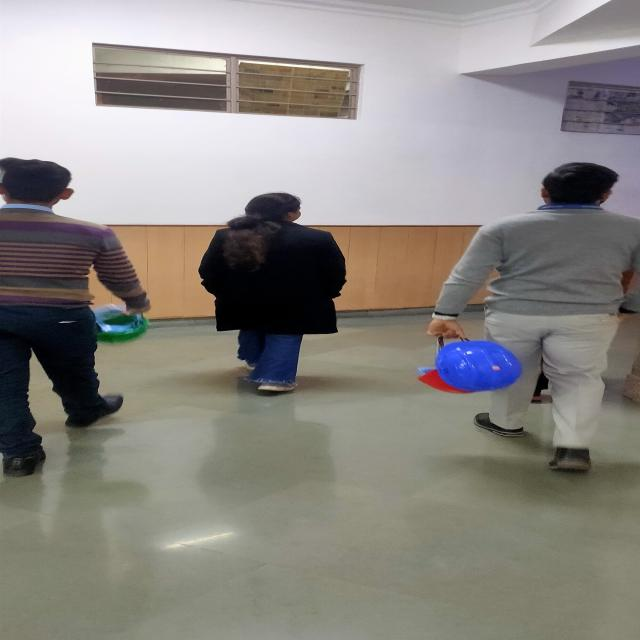unsafe: (423, 162, 640, 482), (0, 157, 151, 478), (200, 190, 349, 390)
